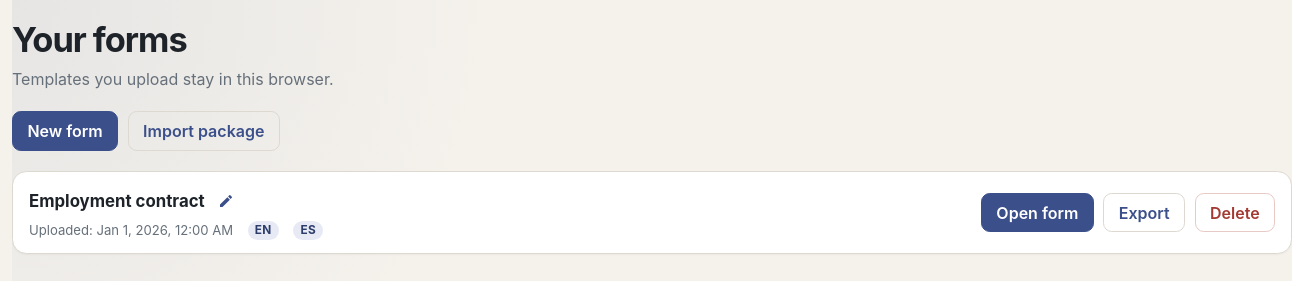
Test: LibraryPage › opens the inline rename editor from the pen and focuses the input
This screenshot has width=1292, height=281.
Click the button named "Rename" at (226,201), box [211,186,242,216]
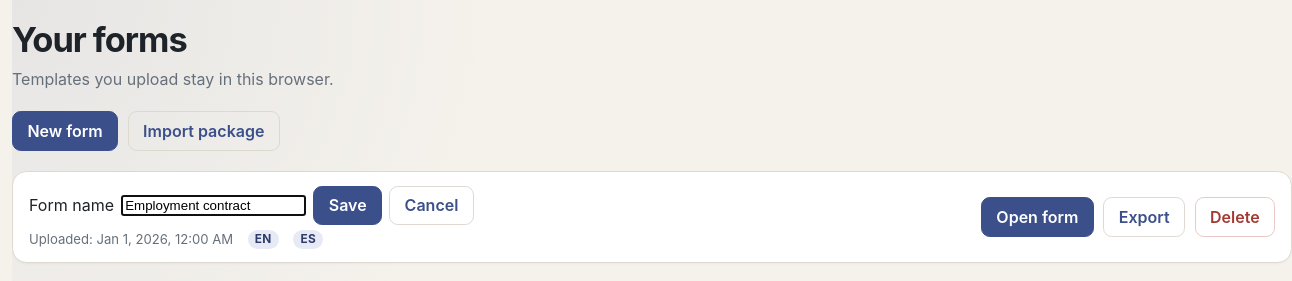
Expected: the field labelled "Form name" holds "Employment contract", [121,195,306,216]
Expected: the button "Save" is shown, [313,186,382,225]
Expected: the button "Cancel" is shown, [389,186,474,225]
